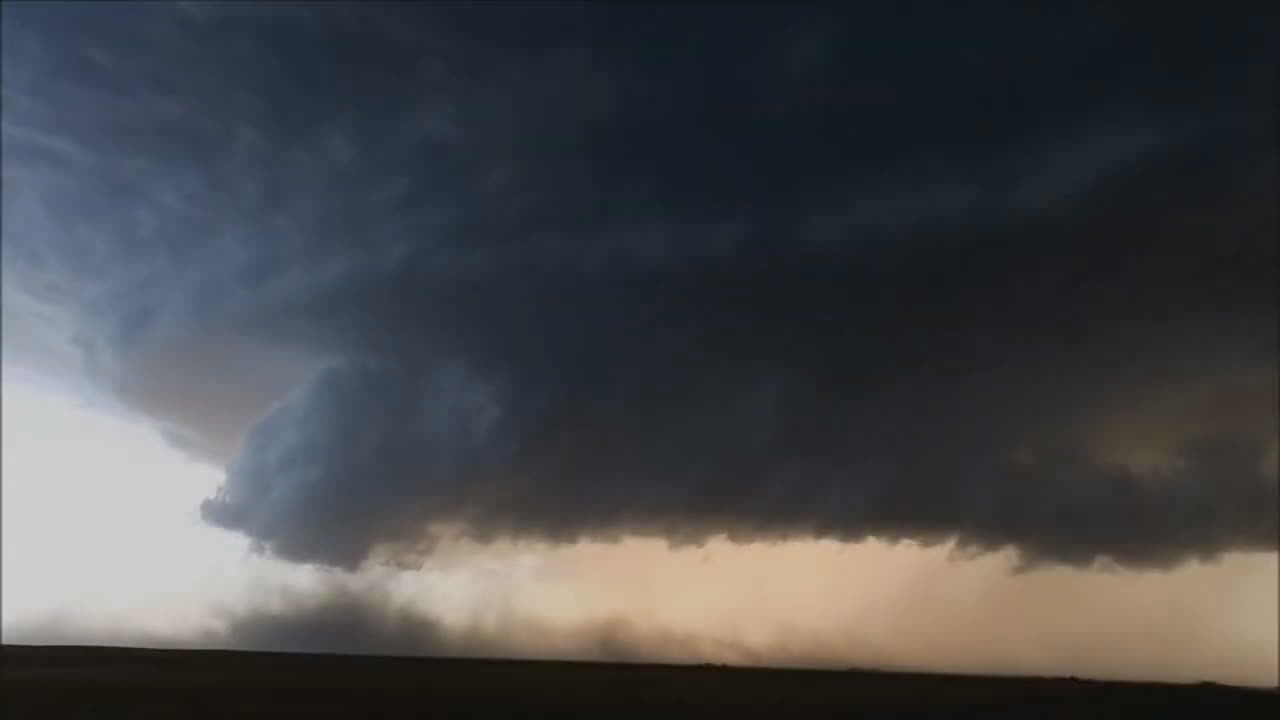RFD: (206, 530, 1278, 687)
mesocyclone: (2, 2, 1280, 493)
striations: (69, 127, 1234, 462)
wall cloud: (202, 358, 1280, 576)
